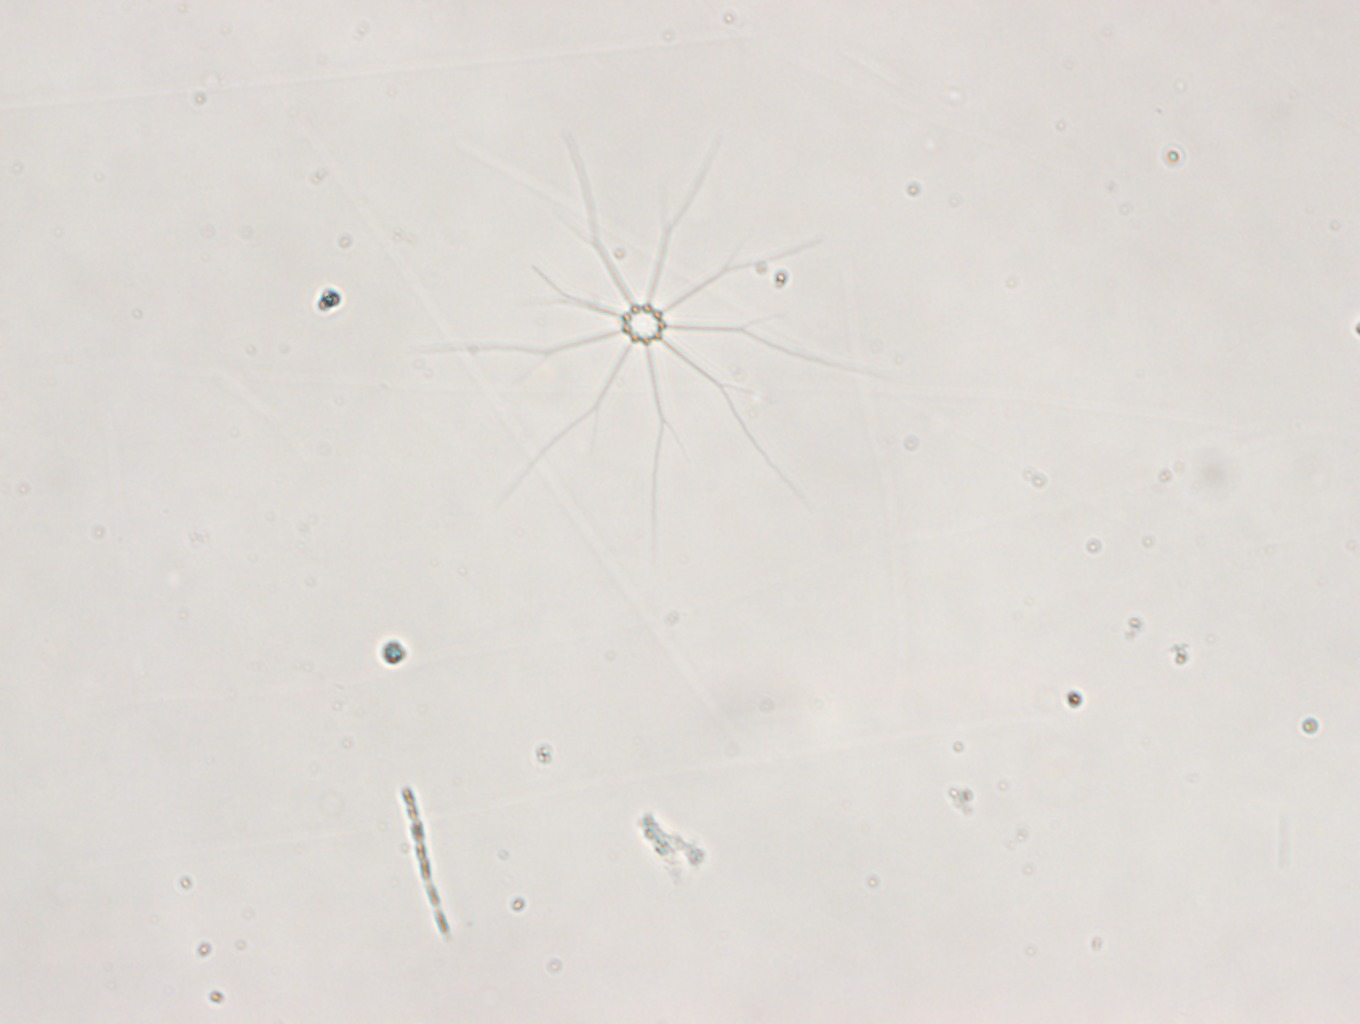bacteriastrum: (414, 122, 893, 542)
